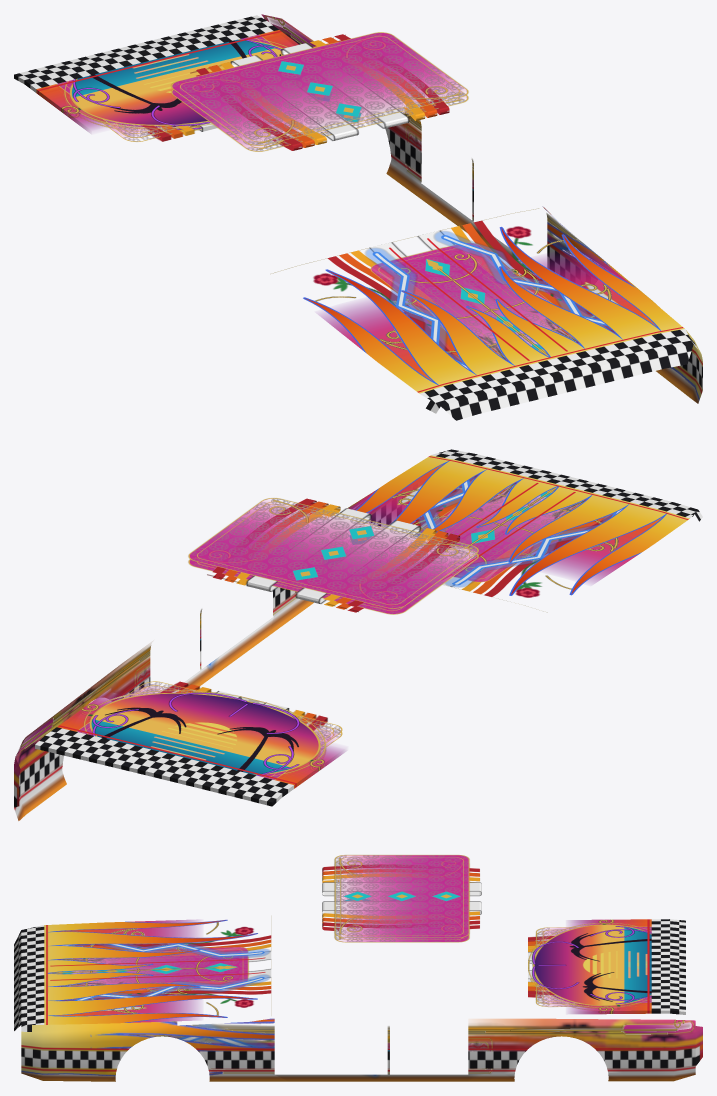
The model's file is NorrbyDL84Vinyls.glb.
3 renders of one model, top to bottom at view 1: azimuth 30°, elevation 25°; view 2: azimuth 150°, elevation 25°; view 3: azimuth 270°, elevation 25°, orthographic. The views are drawn at different scales.
Parts seen in each view (by area): view 1: NorrbyDL84Livery_patterns_roof, NorrbyDL84Livery_flames_hood, NorrbyDL84Livery_purple_lace_roof, NorrbyDL84Livery_checker_hood, NorrbyDL84Livery_mural_trunk, NorrbyDL84Livery_patterns_hood, NorrbyDL84Livery_checker_trunk, NorrbyDL84Livery_lightning_hood, NorrbyDL84Livery_retro_waves_roof, NorrbyDL84Livery_purple_lace_hood, NorrbyDL84Livery_retro_waves_hood, NorrbyDL84Livery_sunset_fade_hood (+14 smaller); view 2: NorrbyDL84Livery_patterns_roof, NorrbyDL84Livery_flames_hood, NorrbyDL84Livery_mural_trunk, NorrbyDL84Livery_purple_lace_roof, NorrbyDL84Livery_checker_trunk, NorrbyDL84Livery_patterns_hood, NorrbyDL84Livery_retro_waves_roof, NorrbyDL84Livery_checker_hood, NorrbyDL84Livery_stripes_roof, NorrbyDL84Livery_sunset_fade_hood, NorrbyDL84Livery_lightning_hood, NorrbyDL84Livery_sunset_fade_side (+16 smaller); view 3: NorrbyDL84Livery_patterns_roof, NorrbyDL84Livery_flames_hood, NorrbyDL84Livery_mural_trunk, NorrbyDL84Livery_purple_lace_roof, NorrbyDL84Livery_checker_side, NorrbyDL84Livery_flames_side, NorrbyDL84Livery_patterns_hood, NorrbyDL84Livery_checker_hood, NorrbyDL84Livery_sunset_fade_side, NorrbyDL84Livery_checker_trunk, NorrbyDL84Livery_tropical_side, NorrbyDL84Livery_retro_waves_side (+21 smaller).
Part boxes in pixels (x1,y1,x2,y2): NorrbyDL84Livery_patterns_roof: (171, 32, 468, 151); NorrbyDL84Livery_flames_hood: (303, 227, 684, 393); NorrbyDL84Livery_purple_lace_roof: (175, 38, 464, 150); NorrbyDL84Livery_checker_hood: (389, 238, 697, 420); NorrbyDL84Livery_mural_trunk: (61, 37, 287, 132); NorrbyDL84Livery_patterns_hood: (370, 242, 575, 359); NorrbyDL84Livery_checker_trunk: (14, 15, 281, 94); NorrbyDL84Livery_lightning_hood: (365, 231, 612, 369); NorrbyDL84Livery_retro_waves_roof: (190, 34, 449, 150); NorrbyDL84Livery_purple_lace_hood: (412, 255, 574, 358); NorrbyDL84Livery_retro_waves_hood: (327, 220, 615, 362); NorrbyDL84Livery_sunset_fade_hood: (322, 251, 656, 381); NorrbyDL84Livery_patterns_roof: (188, 498, 478, 614); NorrbyDL84Livery_flames_hood: (356, 455, 689, 595); NorrbyDL84Livery_mural_trunk: (81, 690, 325, 777); NorrbyDL84Livery_purple_lace_roof: (193, 498, 476, 610); NorrbyDL84Livery_checker_trunk: (35, 725, 296, 806); NorrbyDL84Livery_patterns_hood: (417, 484, 586, 582); NorrbyDL84Livery_retro_waves_roof: (207, 498, 460, 612); NorrbyDL84Livery_checker_hood: (428, 449, 702, 579); NorrbyDL84Livery_stripes_roof: (246, 508, 420, 603); NorrbyDL84Livery_sunset_fade_hood: (349, 464, 662, 581); NorrbyDL84Livery_lightning_hood: (415, 476, 621, 587); NorrbyDL84Livery_sunset_fade_side: (14, 523, 412, 820); NorrbyDL84Livery_patterns_roof: (334, 855, 469, 942); NorrbyDL84Livery_flames_hood: (44, 920, 257, 1024); NorrbyDL84Livery_mural_trunk: (528, 919, 651, 1013); NorrbyDL84Livery_purple_lace_roof: (335, 855, 457, 941); NorrbyDL84Livery_checker_side: (21, 1043, 700, 1071); NorrbyDL84Livery_flames_side: (21, 1018, 677, 1075); NorrbyDL84Livery_patterns_hood: (55, 947, 248, 990); NorrbyDL84Livery_checker_hood: (14, 925, 265, 1031); NorrbyDL84Livery_sunset_fade_side: (21, 1026, 702, 1081); NorrbyDL84Livery_checker_trunk: (647, 919, 685, 1014); NorrbyDL84Livery_tropical_side: (474, 1018, 702, 1051); NorrbyDL84Livery_retro_waves_side: (137, 1025, 702, 1059).
Bounding box in the file's own units: 6.85 × 4.04 × 19.
Materials: 50 (50 with a texture image).
